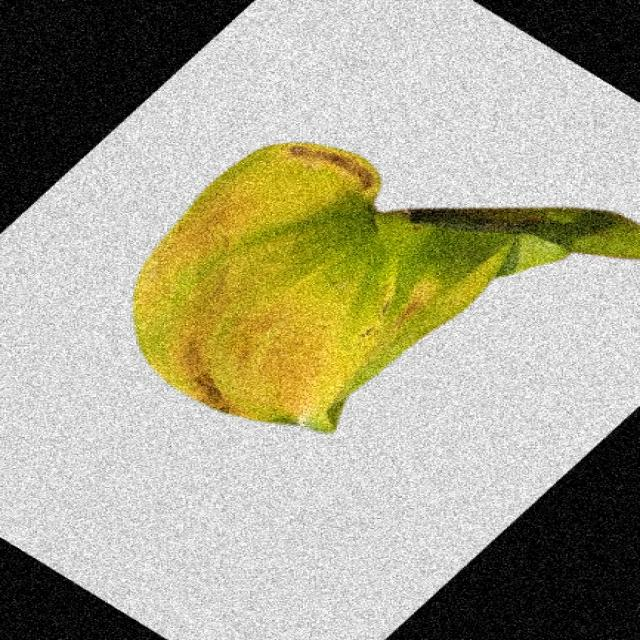daun berpenyakit kuning: (133, 144, 638, 432)
